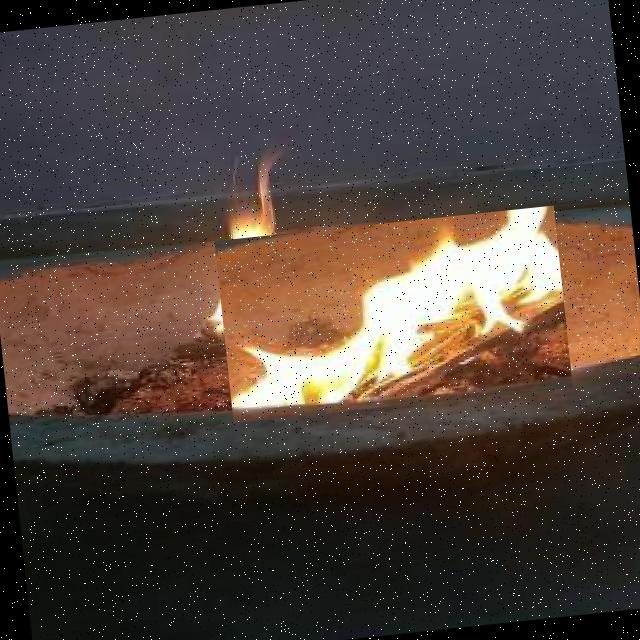fire: (215, 205, 572, 423)
